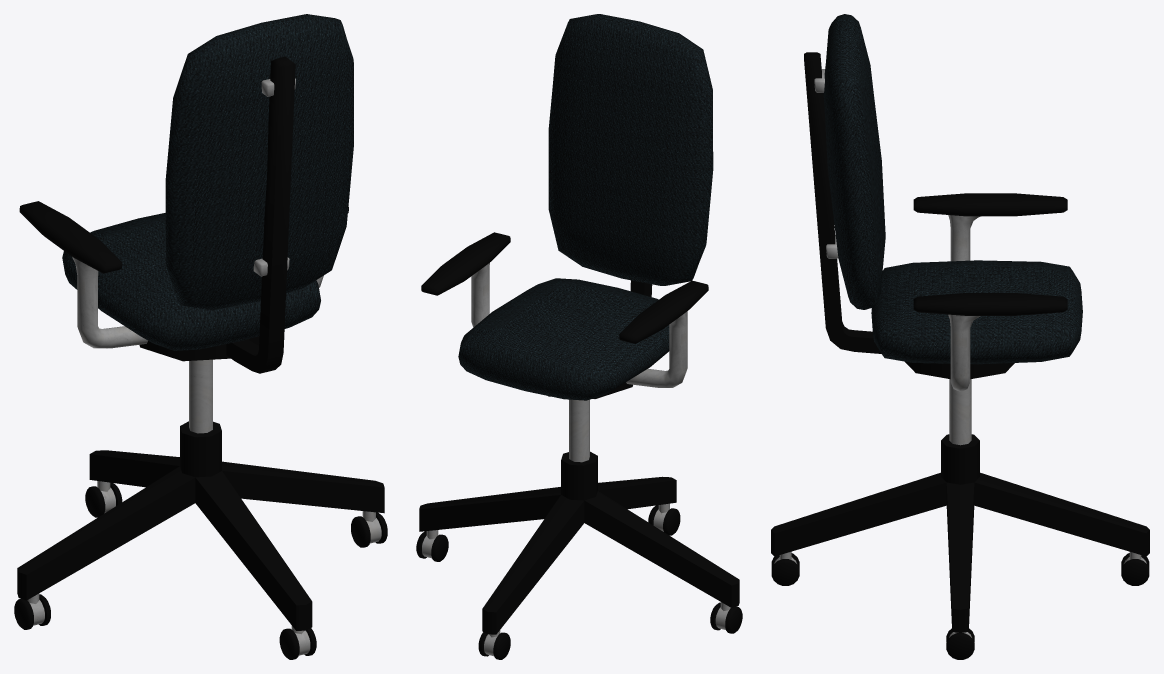
Rendered from officeChair - Texture.gltf.
3 views of the same model, side by side, from view 1: azimuth 30°, elevation 25°; view 2: azimuth 150°, elevation 25°; view 3: azimuth 270°, elevation 25° (orthographic). The views are drawn at different scales.
Visible parts, largest first — view 1: Cylinder; view 2: Cylinder; view 3: Cylinder.
Boxes of the visible parts, box(x1,y1,x2,y2) form: Cylinder: box(14, 14, 387, 659); Cylinder: box(416, 14, 742, 659); Cylinder: box(771, 14, 1149, 659).
Size of the model in its own units: 1.48 by 2.36 by 1.48.
Materials: 1 (1 with a texture image).
